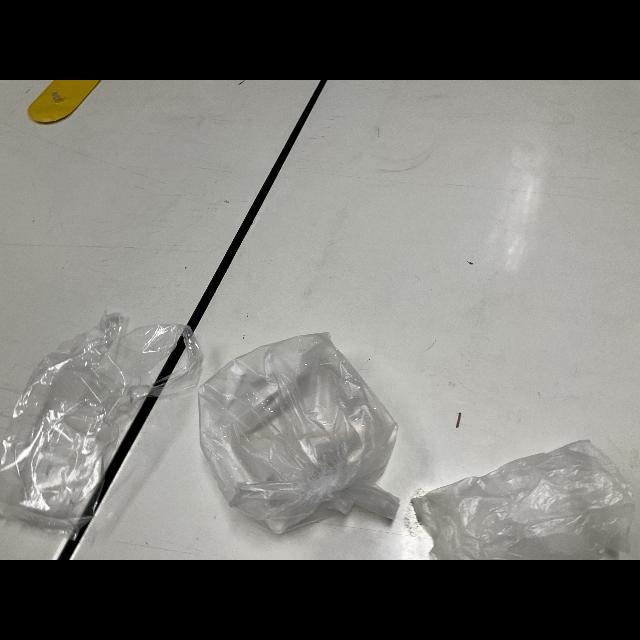plastic_bag: (175, 323, 421, 541), (9, 301, 202, 535)
scrap_plastic: (398, 434, 640, 560)
